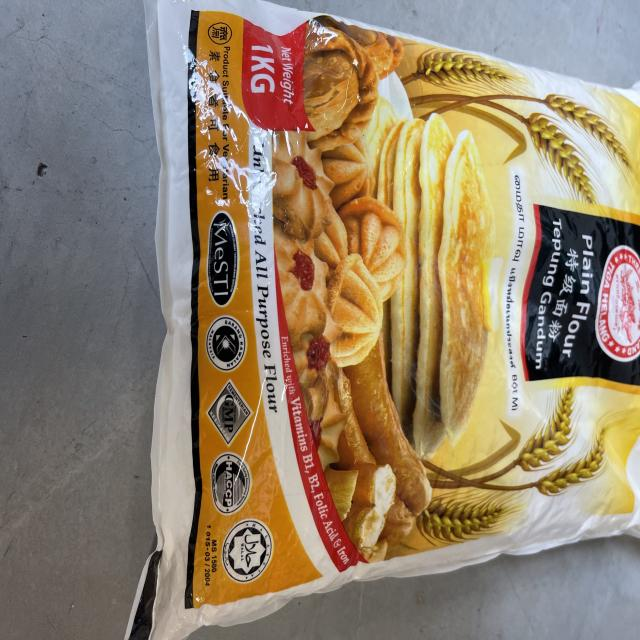object_name: (168, 16, 640, 601)
